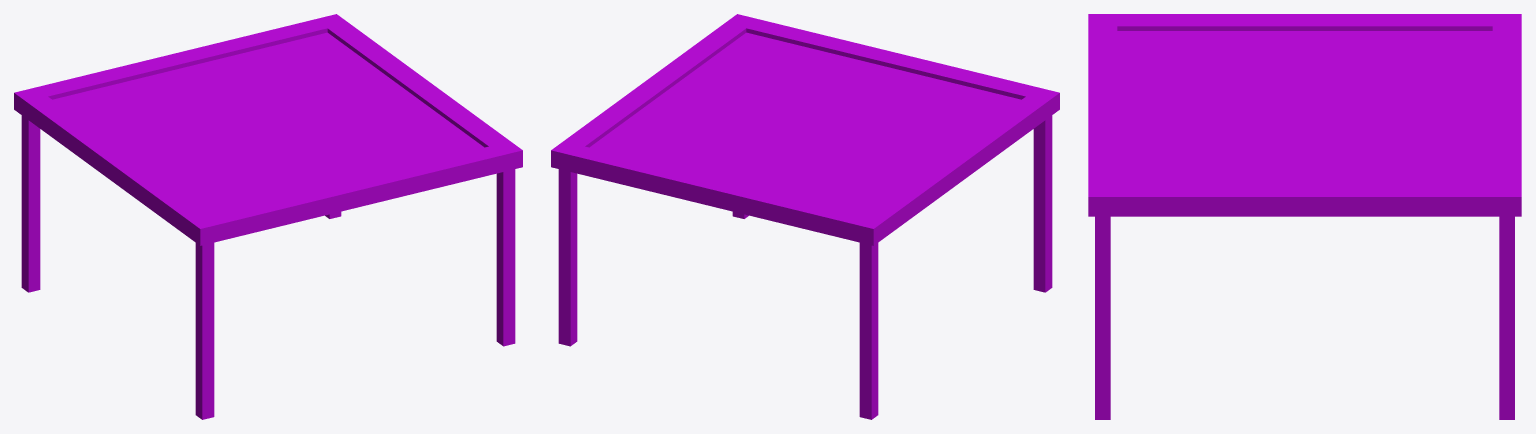
Rendered from platform1.fbx.
The picture shows the model from 3 angles, left to right: view 1: azimuth 30°, elevation 25°; view 2: azimuth 150°, elevation 25°; view 3: azimuth 270°, elevation 25°; orthographic projection. The views are drawn at different scales.
Parts seen in each view (by area): view 1: Cube; view 2: Cube; view 3: Cube.
Part boxes in pixels (x1=…): Cube: x1=14, y1=14, x2=522, y2=419; Cube: x1=551, y1=14, x2=1059, y2=419; Cube: x1=1088, y1=14, x2=1521, y2=419.
Bounding box in the file's own units: 200 × 115 × 200.
